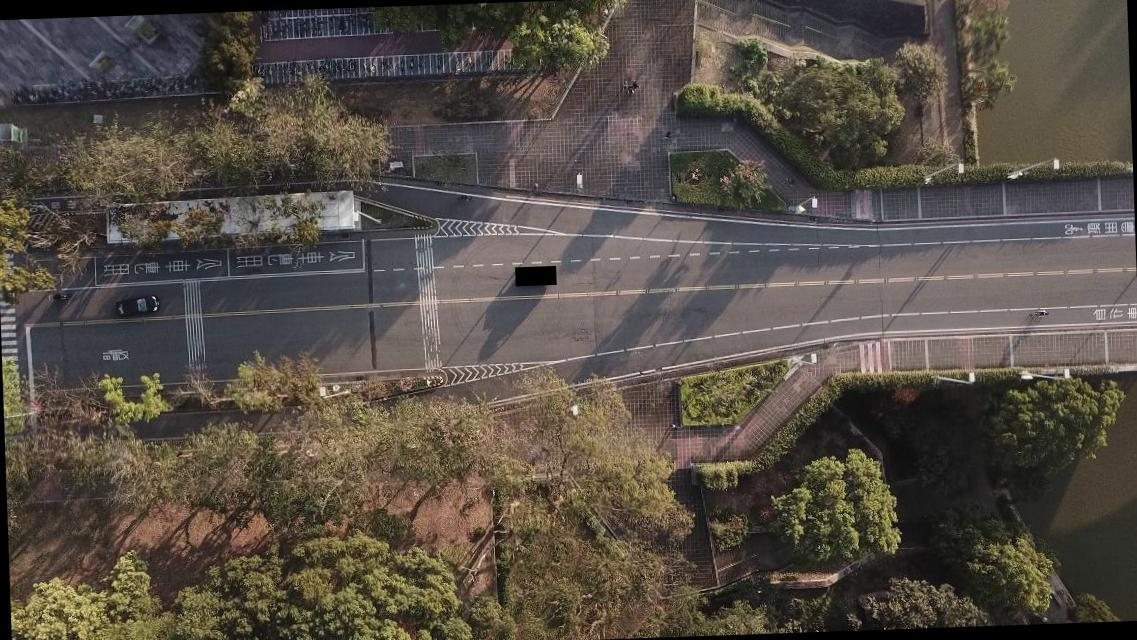vehicle: (112, 294, 159, 315)
